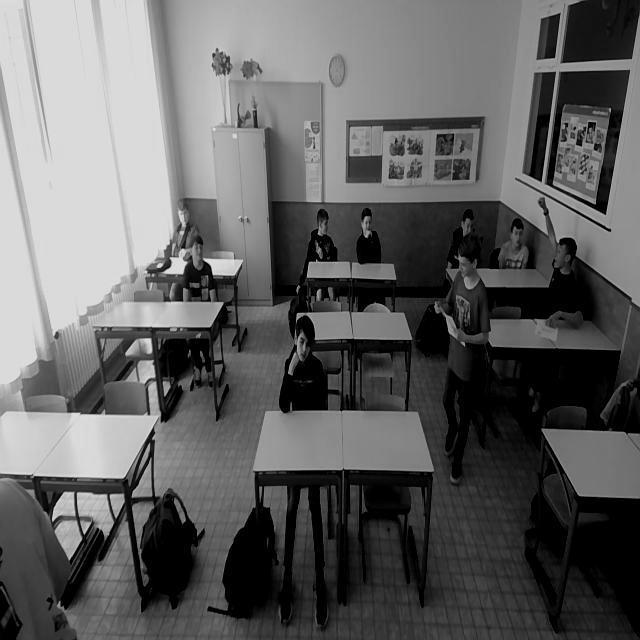Looking away: (509, 218, 525, 248), (314, 208, 330, 236), (460, 210, 474, 239)
Looking forward: (293, 316, 316, 366), (192, 237, 206, 264), (362, 210, 374, 234), (178, 204, 189, 228)
Raising hand: (538, 188, 598, 334)
Reading-writing: (435, 248, 491, 346)
